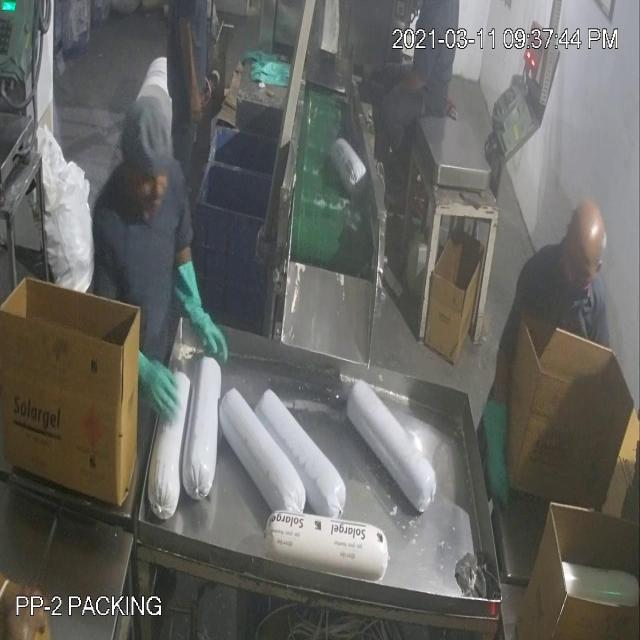gloves: (168, 255, 234, 387), (120, 325, 190, 443)
no-gloves: (172, 4, 208, 116)
